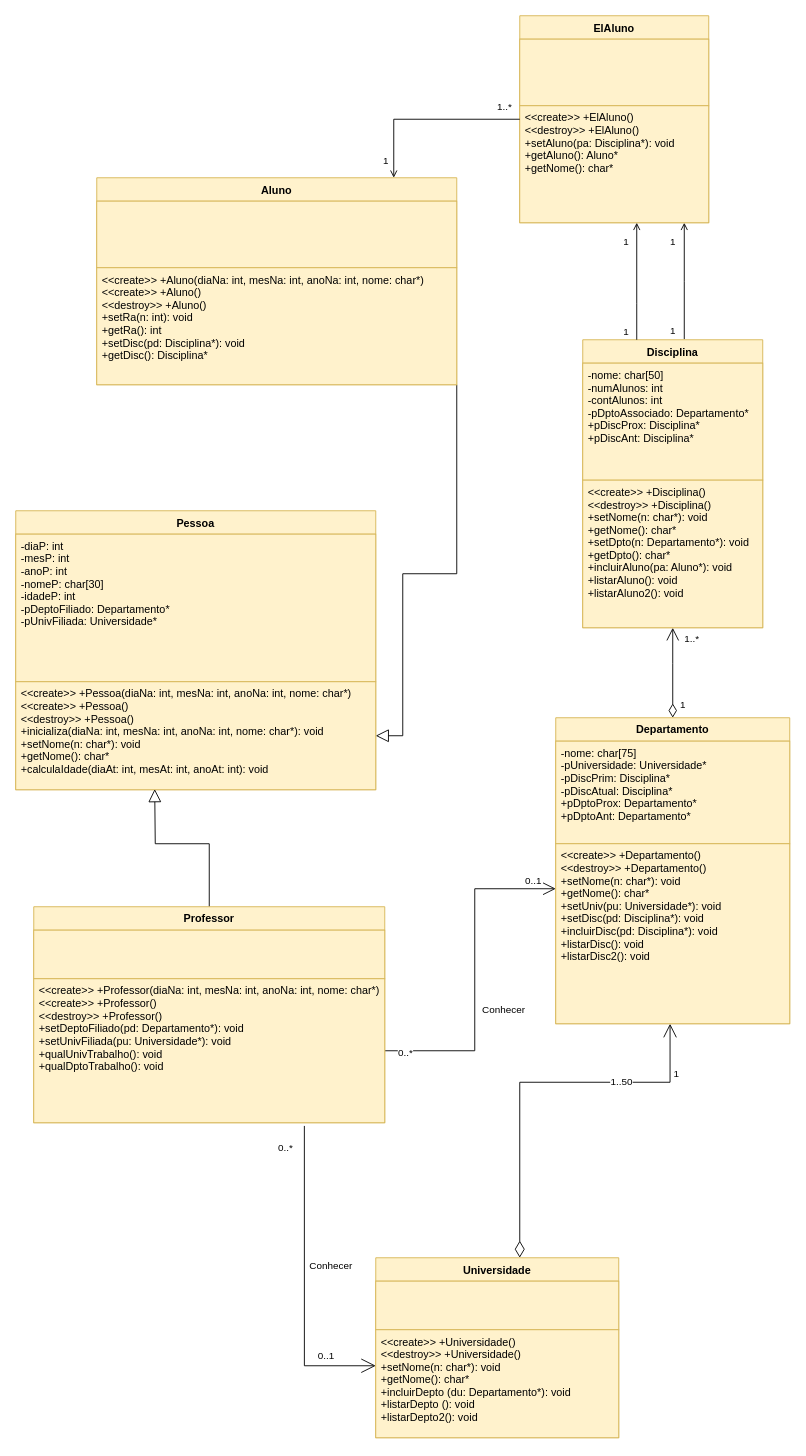
Some shapes in this 806 by 1456 pixel diagram are drawn without their labels. Each missing label, with the centre of its shape:
-dptoFiliado: Departamento* -univFiliada: Universidade*: point (209, 954)
-nome: char[30] -depto: Departamento: point (497, 1305)
-pAluno: Aluno* +pAlunProx: ElAluno* +pAlunAnte: ElAluno*: point (614, 72)
-ra: int -pDiscAssociada: Disciplina*: point (276, 234)
